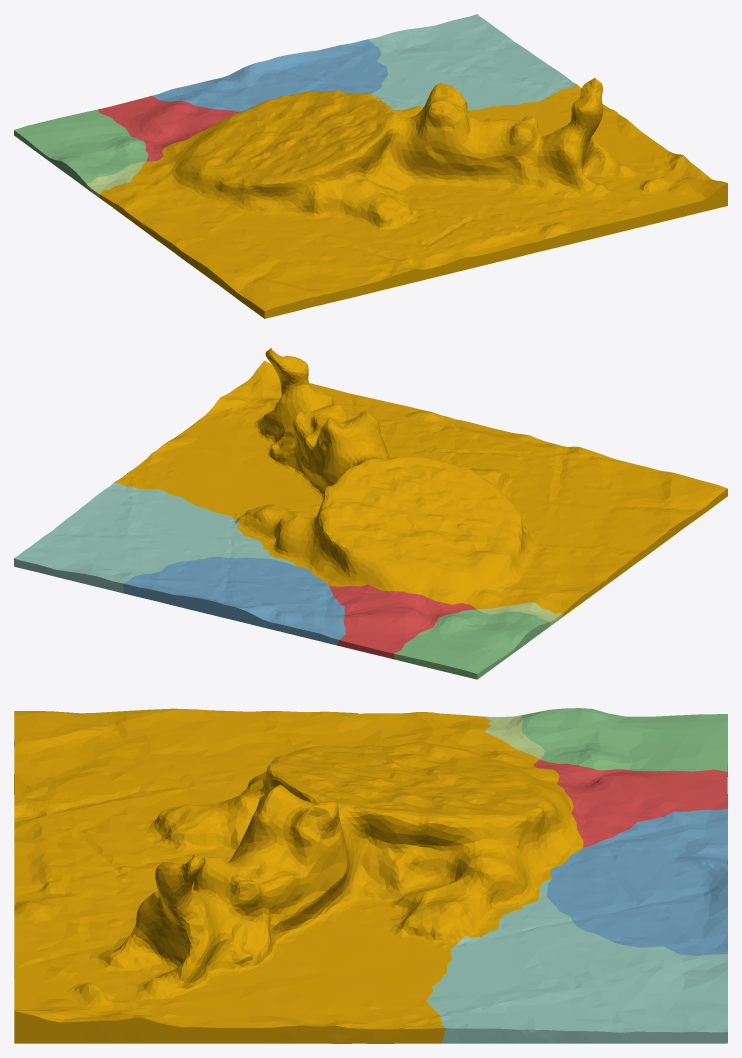
Rendered from fractured_20_6pcs.glb.
The picture shows the model from 3 angles, top to bottom: view 1: azimuth 30°, elevation 25°; view 2: azimuth 150°, elevation 25°; view 3: azimuth 270°, elevation 25°; orthographic projection. The views are drawn at different scales.
Parts seen in each view (by area): view 1: piece_0.obj, piece_4.obj, piece_2.obj, piece_3.obj, piece_1.obj, piece_5.obj; view 2: piece_0.obj, piece_4.obj, piece_2.obj, piece_3.obj, piece_1.obj, piece_5.obj; view 3: piece_0.obj, piece_4.obj, piece_2.obj, piece_3.obj, piece_1.obj, piece_5.obj.
Part boxes in pixels (bbox=[...]): piece_0.obj: bbox=[99, 78, 727, 318]; piece_4.obj: bbox=[368, 14, 575, 110]; piece_2.obj: bbox=[152, 39, 387, 111]; piece_3.obj: bbox=[14, 109, 148, 187]; piece_1.obj: bbox=[98, 96, 240, 161]; piece_5.obj: bbox=[86, 161, 145, 197]; piece_0.obj: bbox=[113, 348, 727, 616]; piece_4.obj: bbox=[14, 483, 295, 593]; piece_2.obj: bbox=[123, 556, 345, 644]; piece_3.obj: bbox=[393, 609, 549, 679]; piece_1.obj: bbox=[329, 584, 476, 659]; piece_5.obj: bbox=[478, 602, 562, 626]; piece_0.obj: bbox=[14, 708, 583, 1043]; piece_4.obj: bbox=[426, 878, 727, 1043]; piece_2.obj: bbox=[547, 809, 727, 955]; piece_3.obj: bbox=[521, 708, 727, 776]; piece_1.obj: bbox=[533, 759, 727, 847]; piece_5.obj: bbox=[485, 715, 544, 758].
Size of the model in its own units: 1 by 0.2042 by 0.9367.
